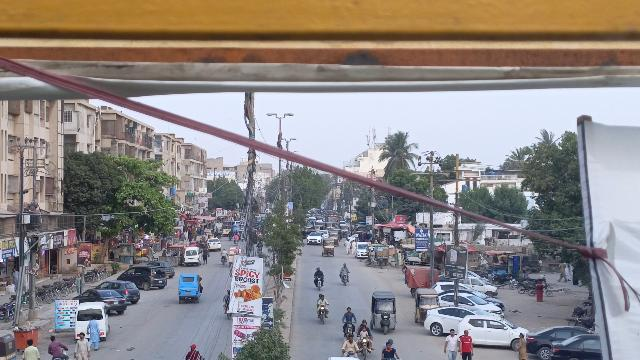Bike: (357, 334, 374, 360), (340, 320, 357, 337), (317, 303, 329, 325), (314, 274, 324, 291), (341, 272, 350, 287), (223, 304, 230, 319)
Car: (457, 312, 527, 349), (424, 305, 480, 336), (71, 287, 128, 314), (116, 264, 169, 292), (96, 280, 140, 304)
Person: (86, 315, 102, 352), (72, 332, 92, 360), (443, 329, 460, 360), (20, 337, 41, 360), (46, 333, 66, 357), (460, 328, 473, 360), (514, 331, 528, 360), (343, 332, 357, 353), (380, 342, 397, 359), (340, 305, 356, 323), (317, 294, 329, 306), (359, 325, 370, 338), (360, 319, 369, 333), (339, 263, 350, 274), (314, 266, 324, 278), (223, 289, 230, 304)
Rickshaw: (369, 290, 398, 335), (413, 287, 439, 327), (176, 272, 203, 304), (321, 236, 336, 258)
Van: (183, 247, 201, 267)
